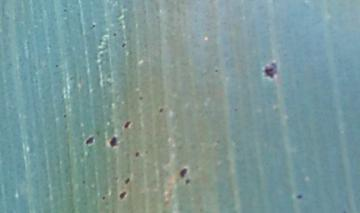tarspot: (262, 60, 279, 80), (106, 135, 121, 148), (84, 133, 97, 148), (178, 166, 187, 181), (118, 189, 127, 202), (123, 120, 132, 131), (123, 176, 131, 187), (133, 150, 141, 161), (296, 192, 304, 201), (183, 178, 191, 185), (157, 106, 164, 114), (119, 41, 127, 48), (231, 105, 239, 112), (62, 7, 69, 14), (213, 66, 219, 74), (80, 177, 86, 185), (101, 193, 106, 202), (111, 31, 117, 37), (53, 62, 59, 68), (137, 95, 143, 101), (61, 113, 67, 118), (91, 23, 95, 28)
